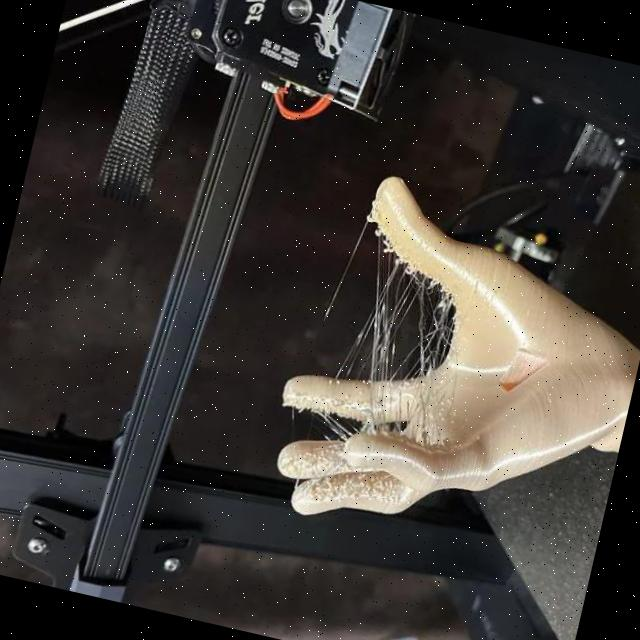stringing: (330, 252, 403, 383), (366, 217, 408, 428), (416, 271, 457, 379), (317, 415, 360, 445)
